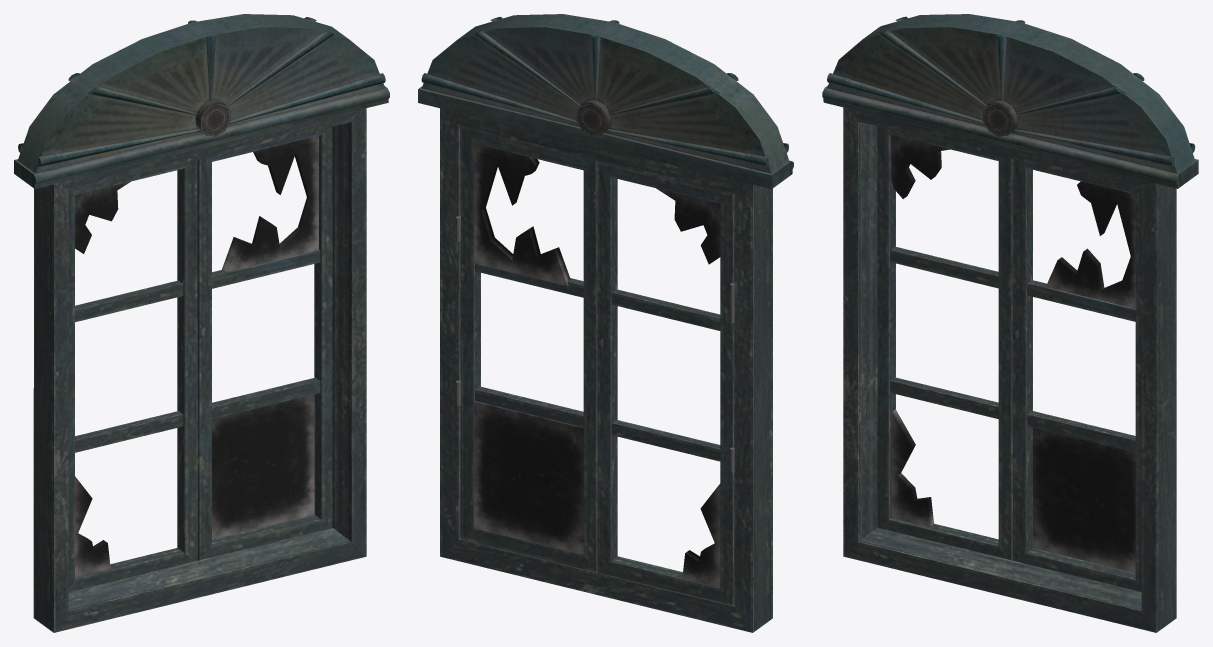
File: sm21_035_starscorridorwindow01a.fbx
3 views of the same model, side by side, from view 1: azimuth 30°, elevation 25°; view 2: azimuth 150°, elevation 25°; view 3: azimuth 330°, elevation 25° (orthographic).
Parts seen in each view (by area): view 1: LOD_1_Group_0_Sub_2__st2_police2fLeftDoor01, LOD_1_Group_0_Sub_1__st2_police1fLeftWindow01_G; view 2: LOD_1_Group_0_Sub_2__st2_police2fLeftDoor01, LOD_1_Group_0_Sub_1__st2_police1fLeftWindow01_G; view 3: LOD_1_Group_0_Sub_2__st2_police2fLeftDoor01, LOD_1_Group_0_Sub_1__st2_police1fLeftWindow01_G.
Boxes of the visible parts, x1,y1,x2,y2 form: LOD_1_Group_0_Sub_2__st2_police2fLeftDoor01: [14, 14, 389, 632]; LOD_1_Group_0_Sub_1__st2_police1fLeftWindow01_G: [75, 136, 318, 577]; LOD_1_Group_0_Sub_2__st2_police2fLeftDoor01: [418, 14, 793, 632]; LOD_1_Group_0_Sub_1__st2_police1fLeftWindow01_G: [474, 143, 720, 587]; LOD_1_Group_0_Sub_2__st2_police2fLeftDoor01: [822, 14, 1198, 632]; LOD_1_Group_0_Sub_1__st2_police1fLeftWindow01_G: [891, 135, 1135, 572].
Size of the model in its own units: 126 by 190 by 16.5.
